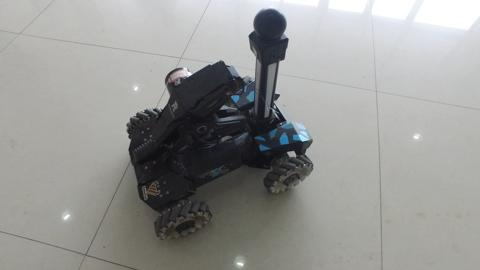chariot: (108, 16, 305, 232)
